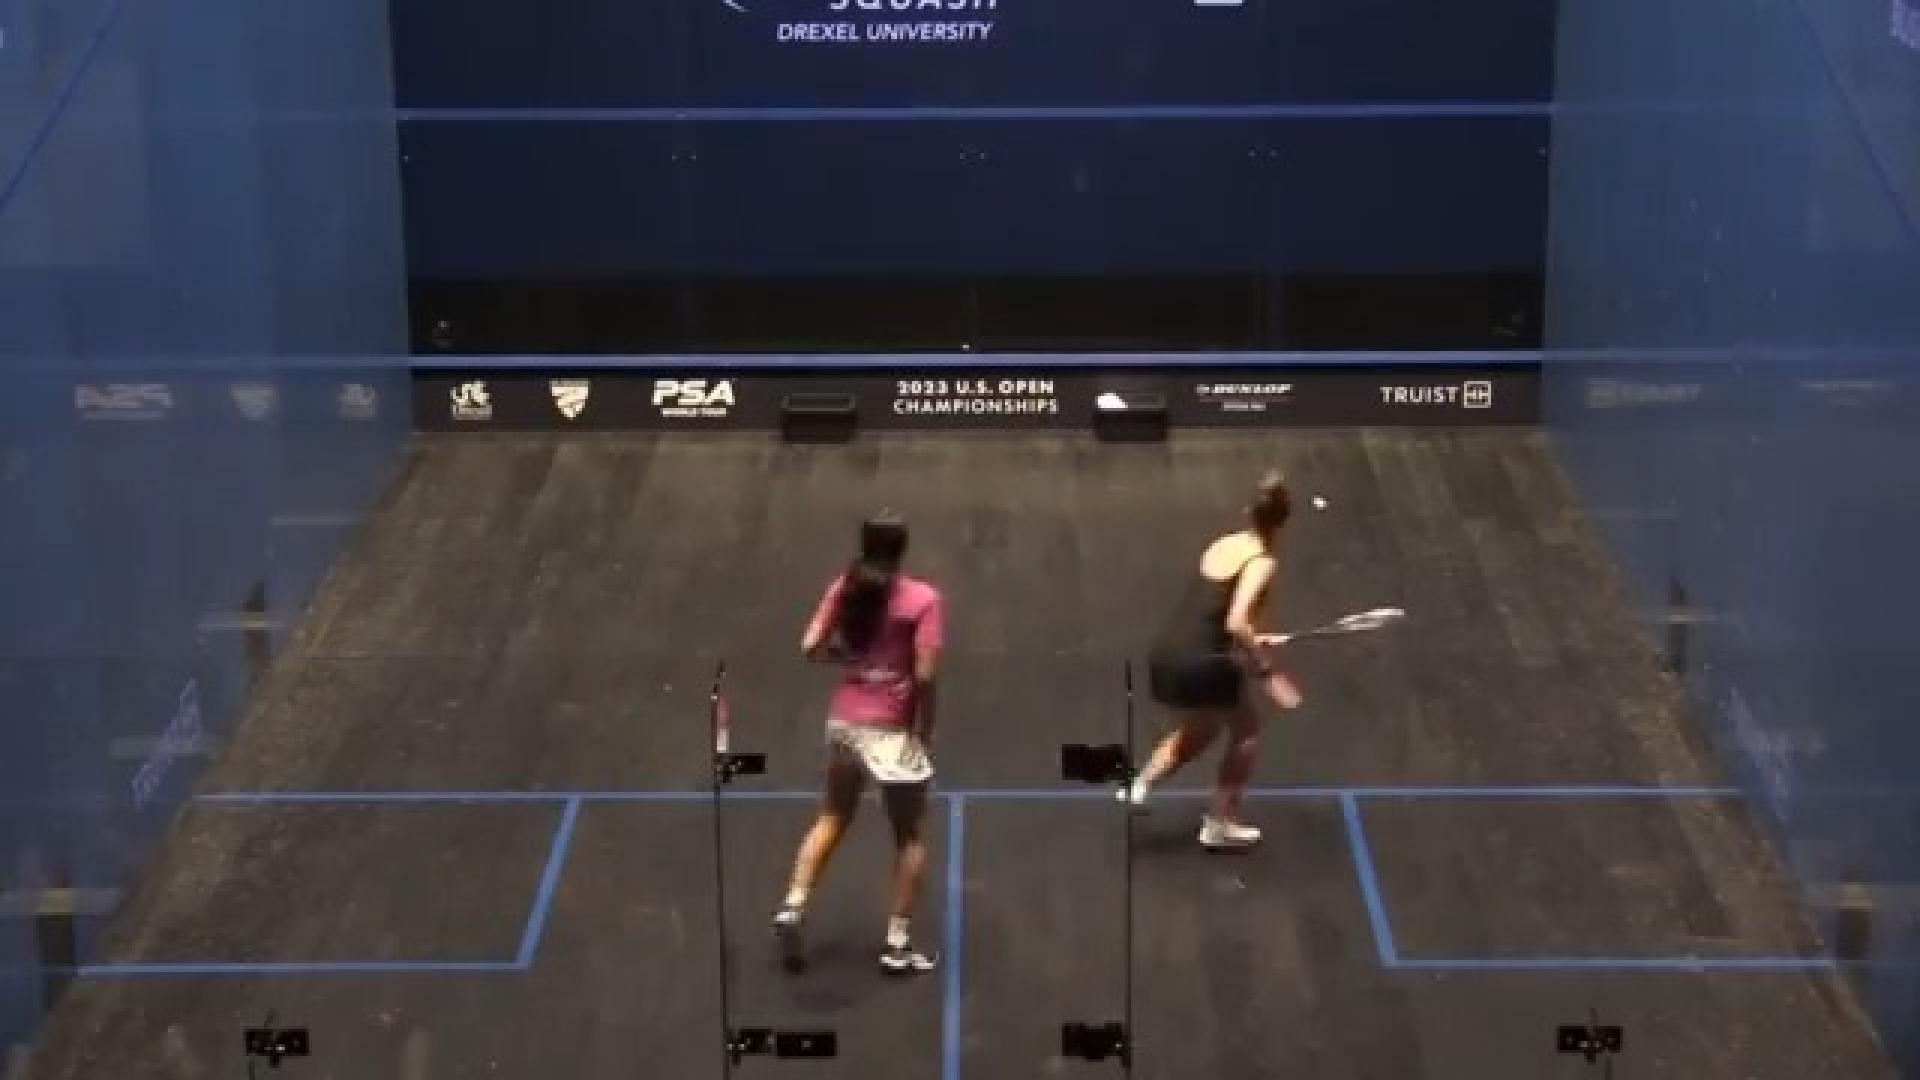Squash-Ball: (1304, 487, 1344, 522)
